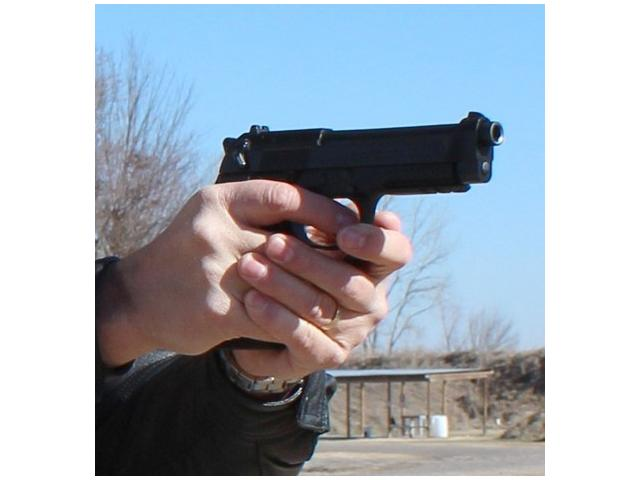pistol: (199, 114, 508, 352)
